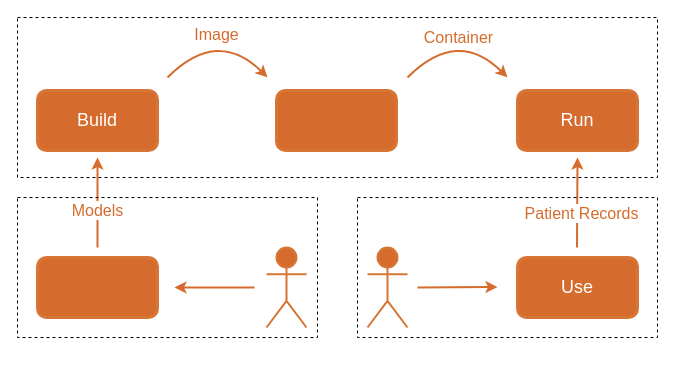
Image size: 675x374. Some labels were removed from this diagram. The shapes that lost their labels are listed below. From the top down, each one's centre as x and y in pixels, then its label:
At point (336, 120): "Deploy".
At point (97, 287): "Import".
